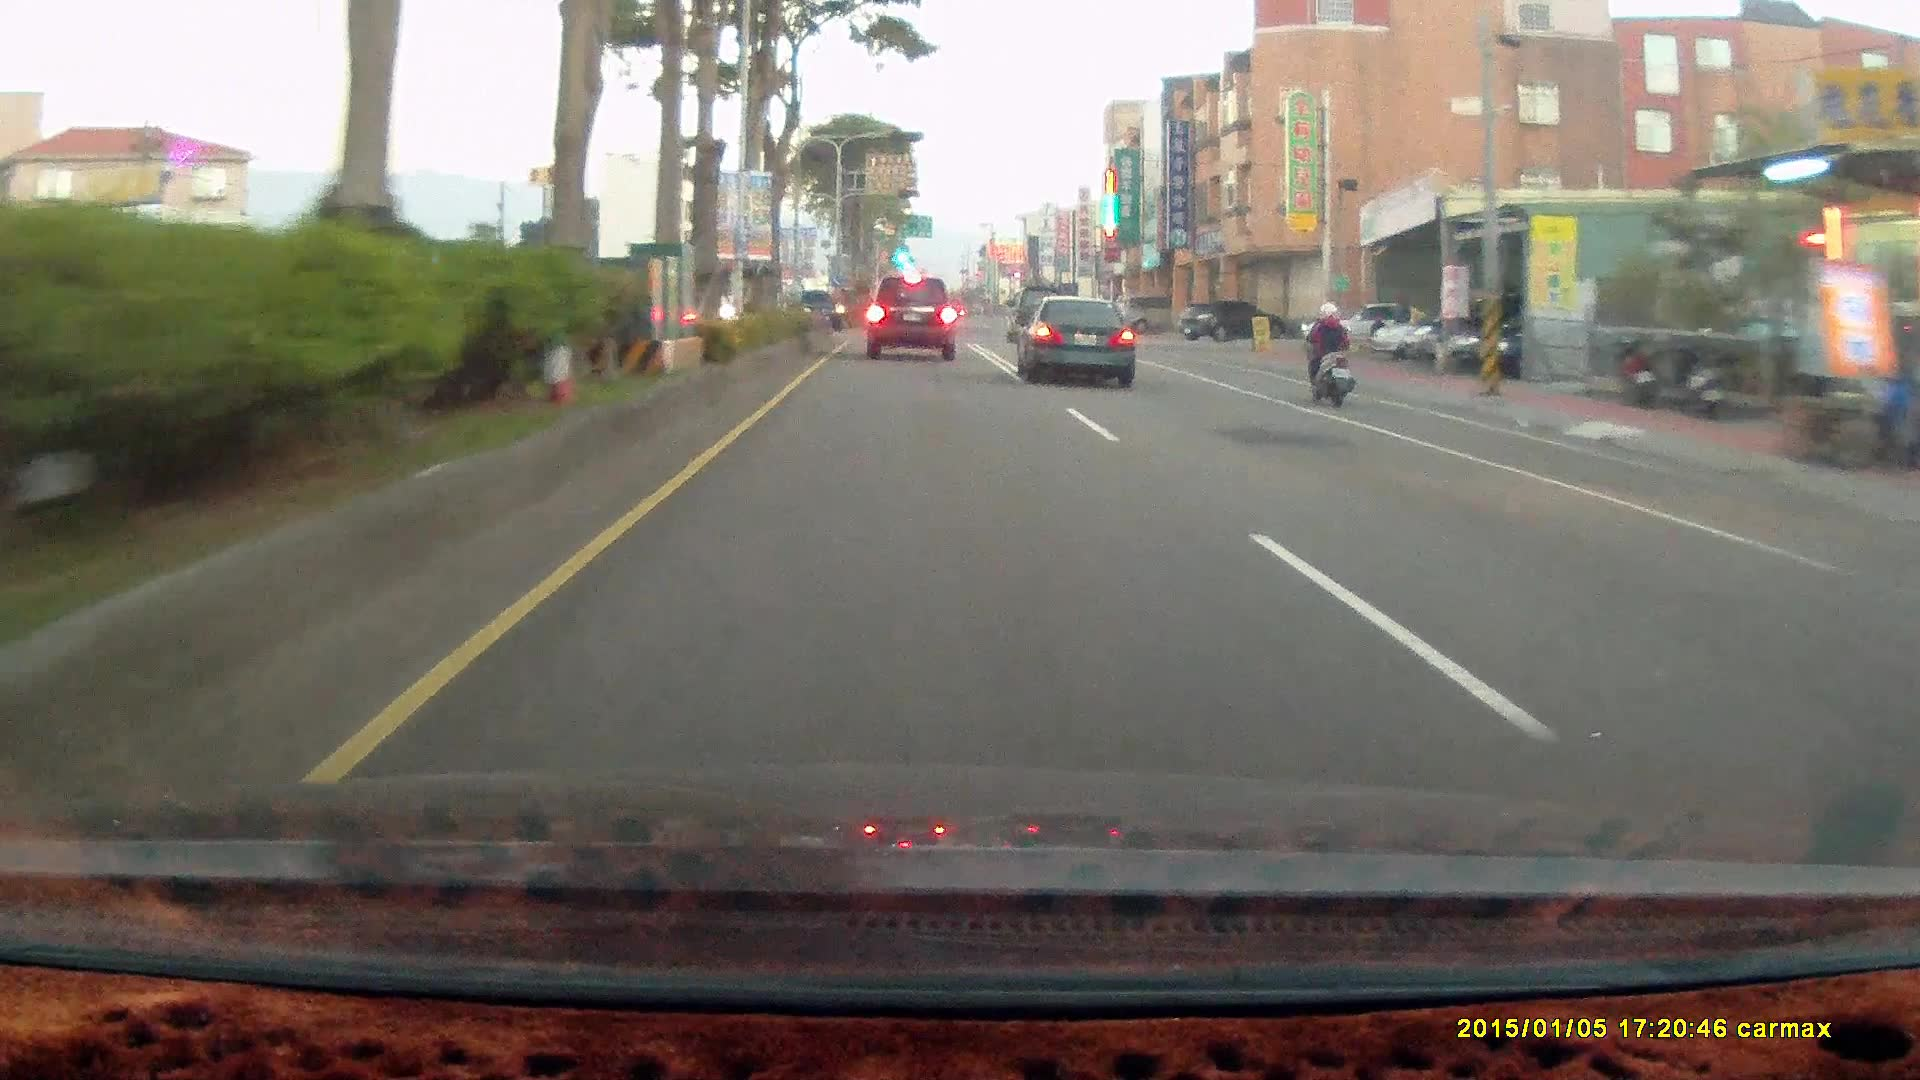rider: (1291, 290, 1368, 419), (1297, 297, 1355, 404)
vehicle: (1021, 290, 1142, 386), (1012, 294, 1133, 386), (1471, 305, 1625, 377), (1408, 293, 1534, 361), (869, 269, 964, 357), (1297, 296, 1445, 352), (865, 274, 956, 359), (1373, 305, 1480, 355), (1179, 298, 1287, 340), (1181, 300, 1275, 345), (1117, 290, 1196, 330), (788, 286, 846, 326)
